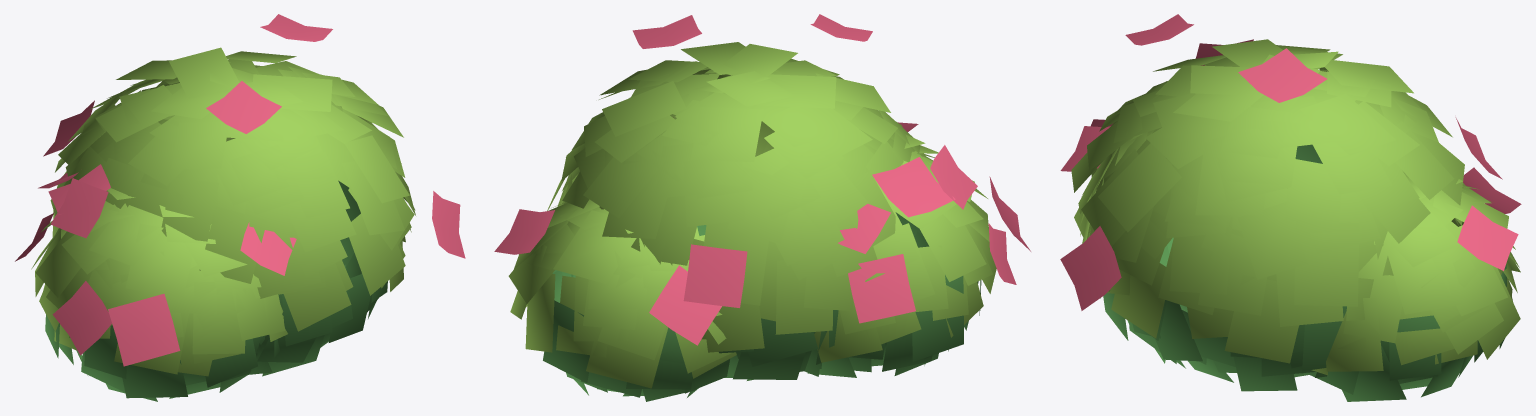
The model's file is plant_bush_2.glb.
3 renders of one model, left to right at view 1: azimuth 30°, elevation 25°; view 2: azimuth 150°, elevation 25°; view 3: azimuth 270°, elevation 25°, orthographic. The views are drawn at different scales.
Parts seen in each view (by area): view 1: plant_bush_2; view 2: plant_bush_2; view 3: plant_bush_2.
Part boxes in pixels (left/top/right/bottom): plant_bush_2: left=15, top=14, right=465, bottom=401; plant_bush_2: left=494, top=14, right=1030, bottom=401; plant_bush_2: left=1060, top=14, right=1521, bottom=401.
Size of the model in its own units: 1.84 by 1.39 by 1.8.
